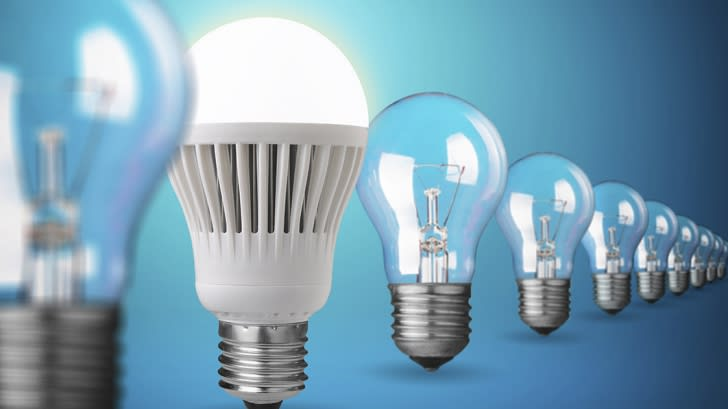Light_bulb: (149, 10, 372, 409), (349, 86, 512, 380), (490, 148, 593, 335), (578, 176, 647, 312), (633, 200, 680, 304)
